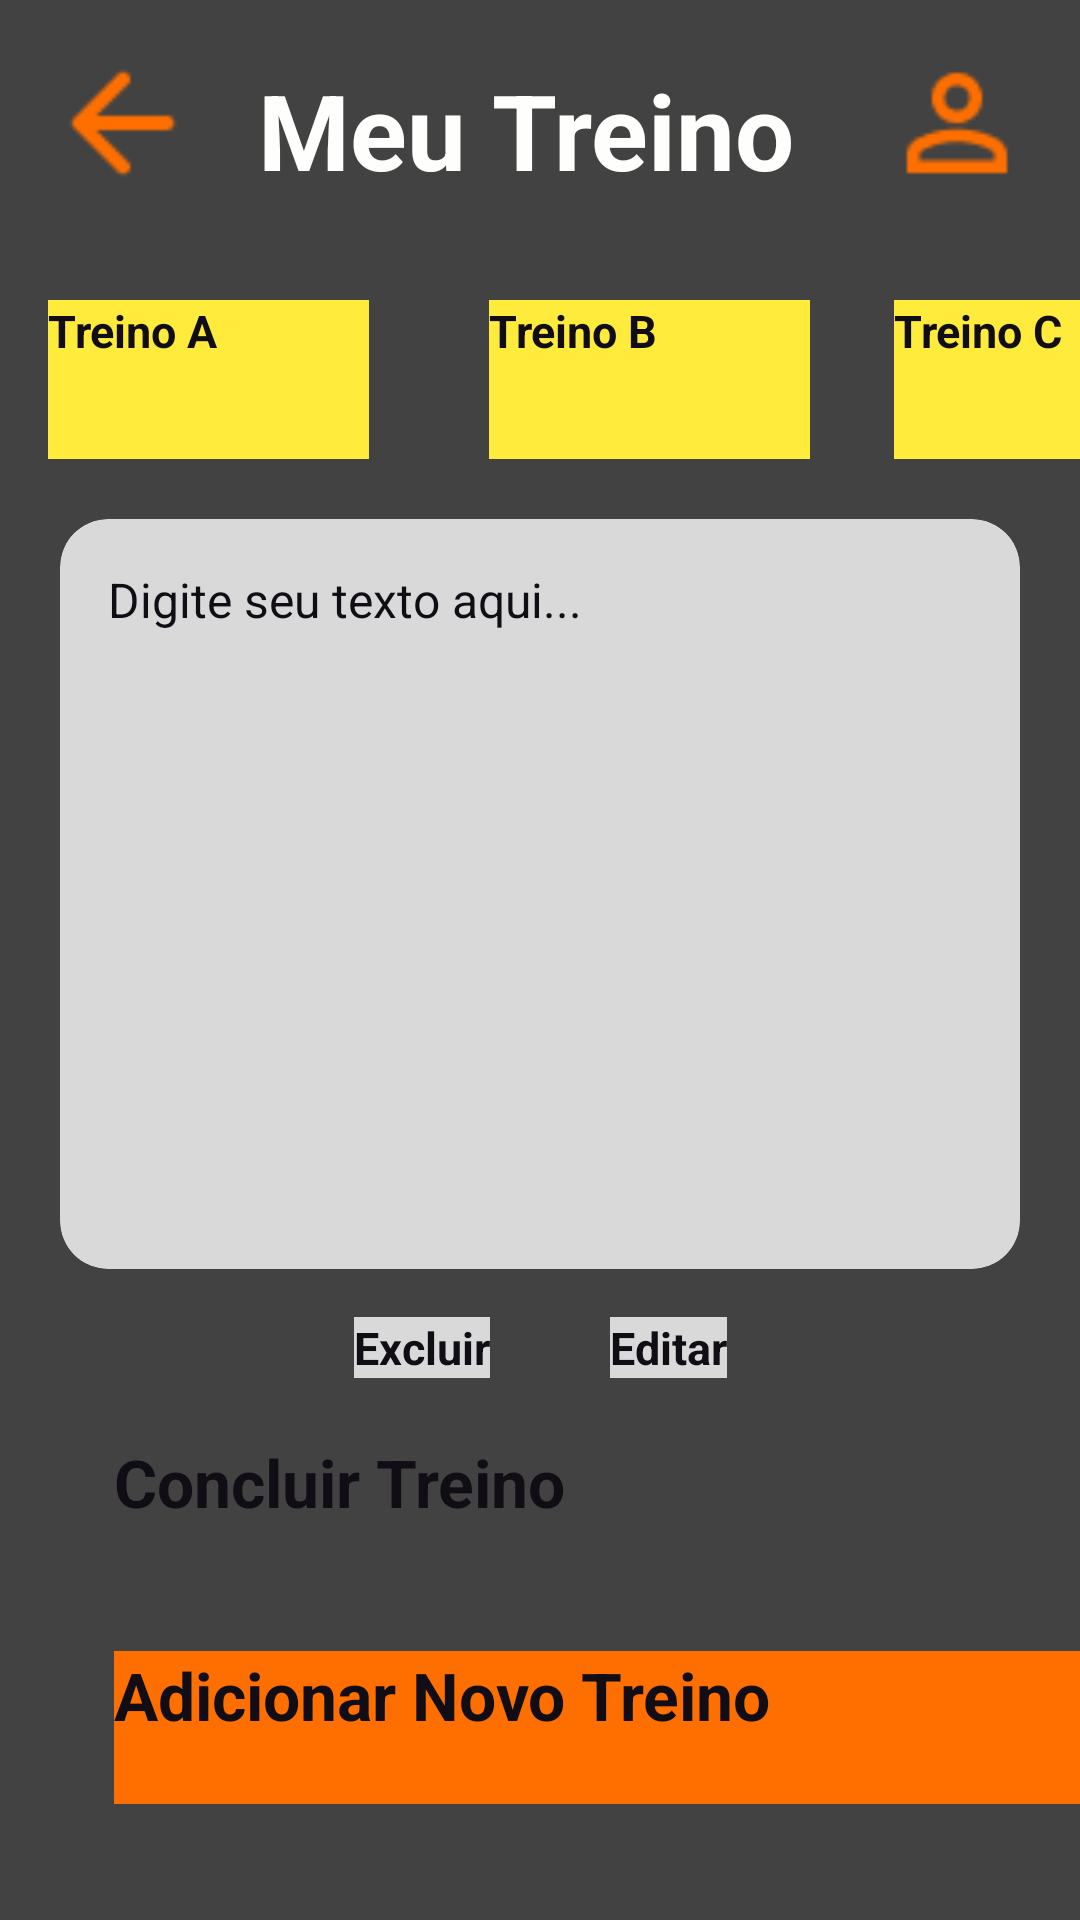

Named icons in this screenshot (1080x1920) and their centers, [x,y]:
person: [957,123]
seta: [123,123]
